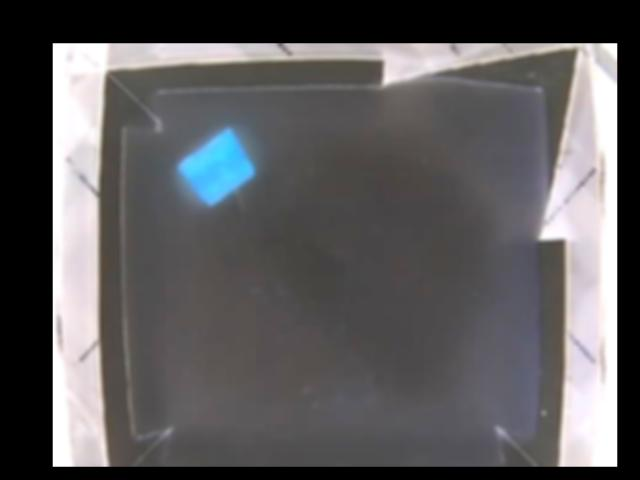Carrot: (178, 127, 252, 207)
